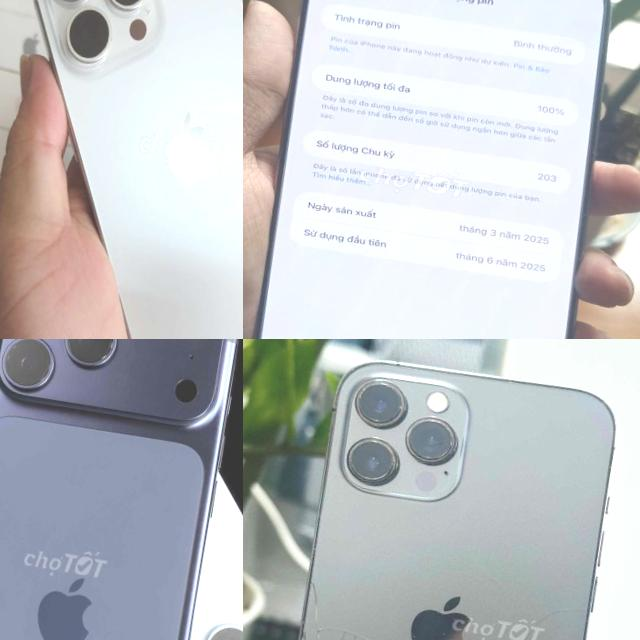gen_12_13: (243, 345, 640, 640)
gen_15: (0, 0, 243, 339)
gen_16: (254, 0, 609, 339)
gen_17: (0, 339, 243, 640)
